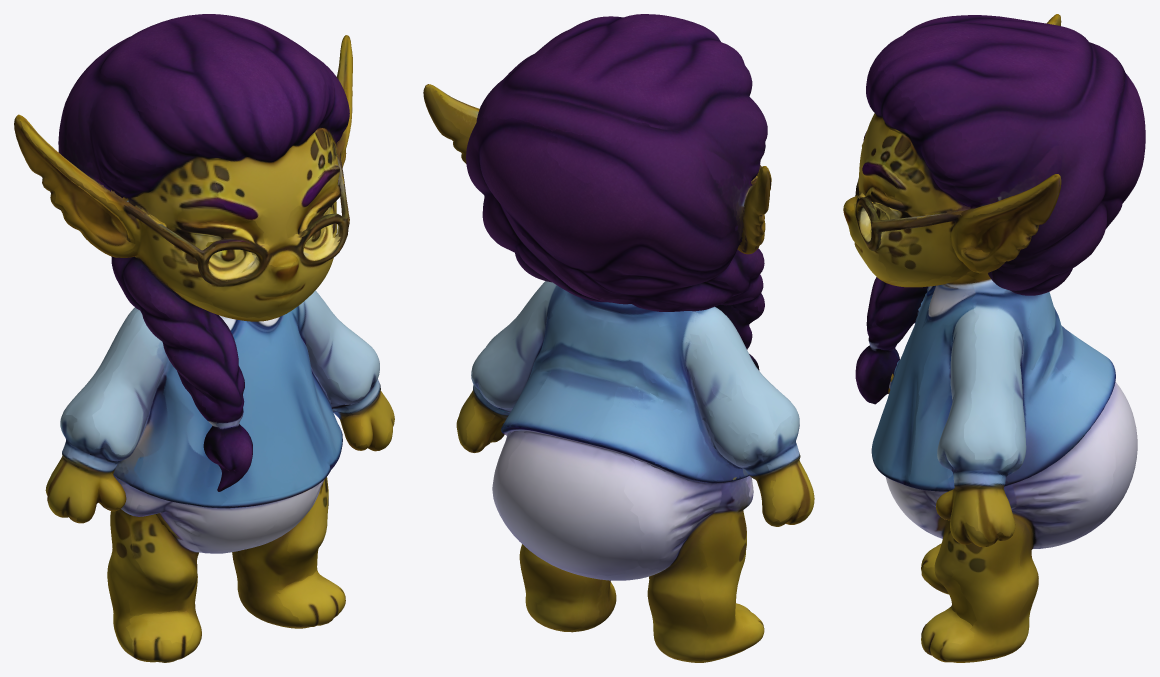
File: liradoll.glb
The picture shows the model from 3 angles, left to right: view 1: azimuth 30°, elevation 25°; view 2: azimuth 150°, elevation 25°; view 3: azimuth 270°, elevation 25°; orthographic projection. The views are drawn at different scales.
Visible parts, largest first — view 1: temp_mesh.ply; view 2: temp_mesh.ply; view 3: temp_mesh.ply.
Part boxes in pixels (<box>): temp_mesh.ply: <box>14,14,394,662</box>; temp_mesh.ply: <box>423,14,814,662</box>; temp_mesh.ply: <box>843,14,1145,662</box>.
Size of the model in its own units: 1.2 by 1.97 by 0.9184.
1 material, 1 textured.
